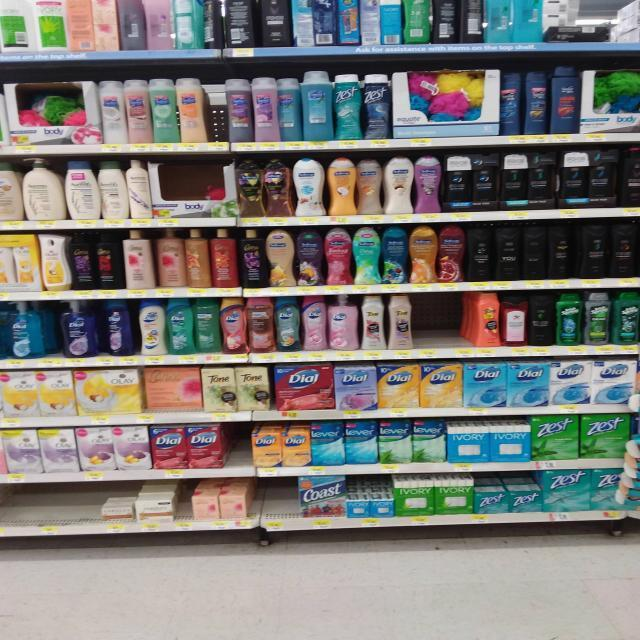empty: (34, 486, 100, 534), (412, 294, 458, 358), (262, 478, 298, 530), (1, 485, 32, 536), (228, 424, 250, 476), (180, 482, 192, 530)
